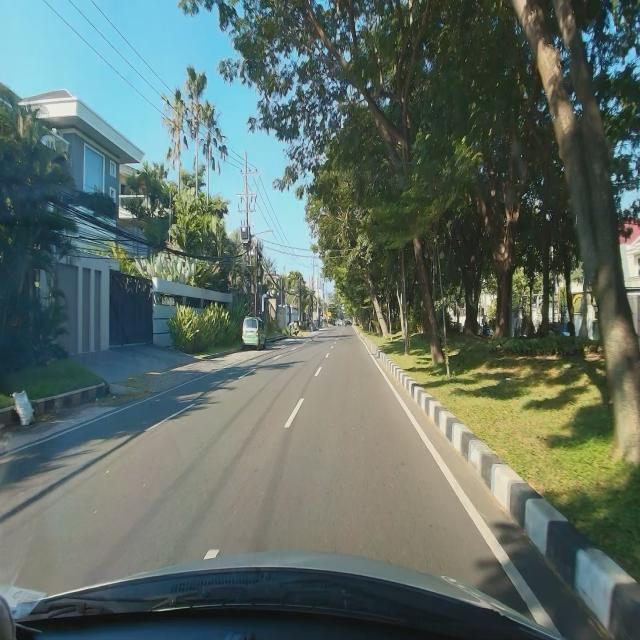car: (241, 315, 267, 351)
license-plate: (246, 332, 253, 336)
